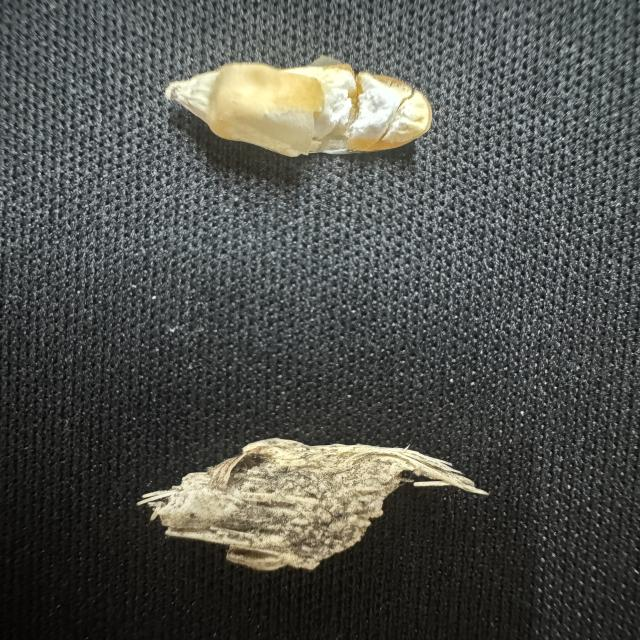Bad-Seed: (138, 423, 487, 583), (144, 46, 443, 165)
